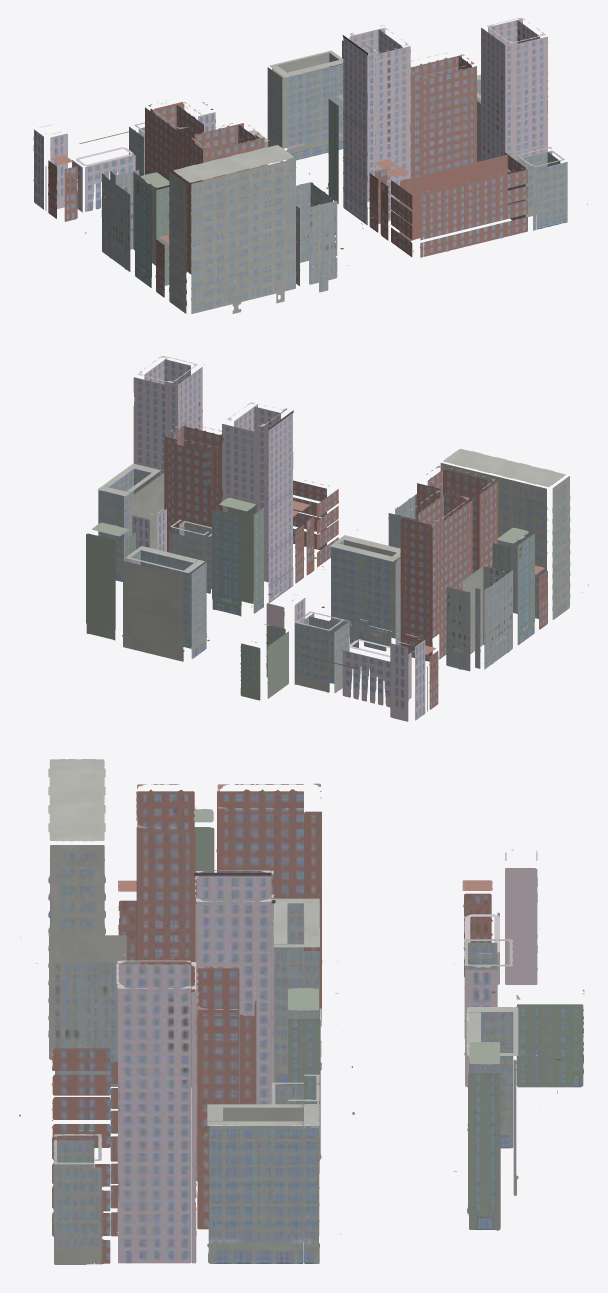
The model's file is block-scene-1-imp.glb.
The picture shows the model from 3 angles, top to bottom: view 1: azimuth 30°, elevation 25°; view 2: azimuth 150°, elevation 25°; view 3: azimuth 270°, elevation 25°; orthographic projection. The views are drawn at different scales.
Parts seen in each view (by area): view 1: block-scene-1-imp; view 2: block-scene-1-imp; view 3: block-scene-1-imp.
Boxes of the visible parts, x1,y1,x2,y2 form: block-scene-1-imp: (30,17,587,313); block-scene-1-imp: (24,356,588,721); block-scene-1-imp: (19,759,584,1264).
Bounding box in the file's own units: 72 × 28.41 × 54.
Materials: 1 (1 with a texture image).
